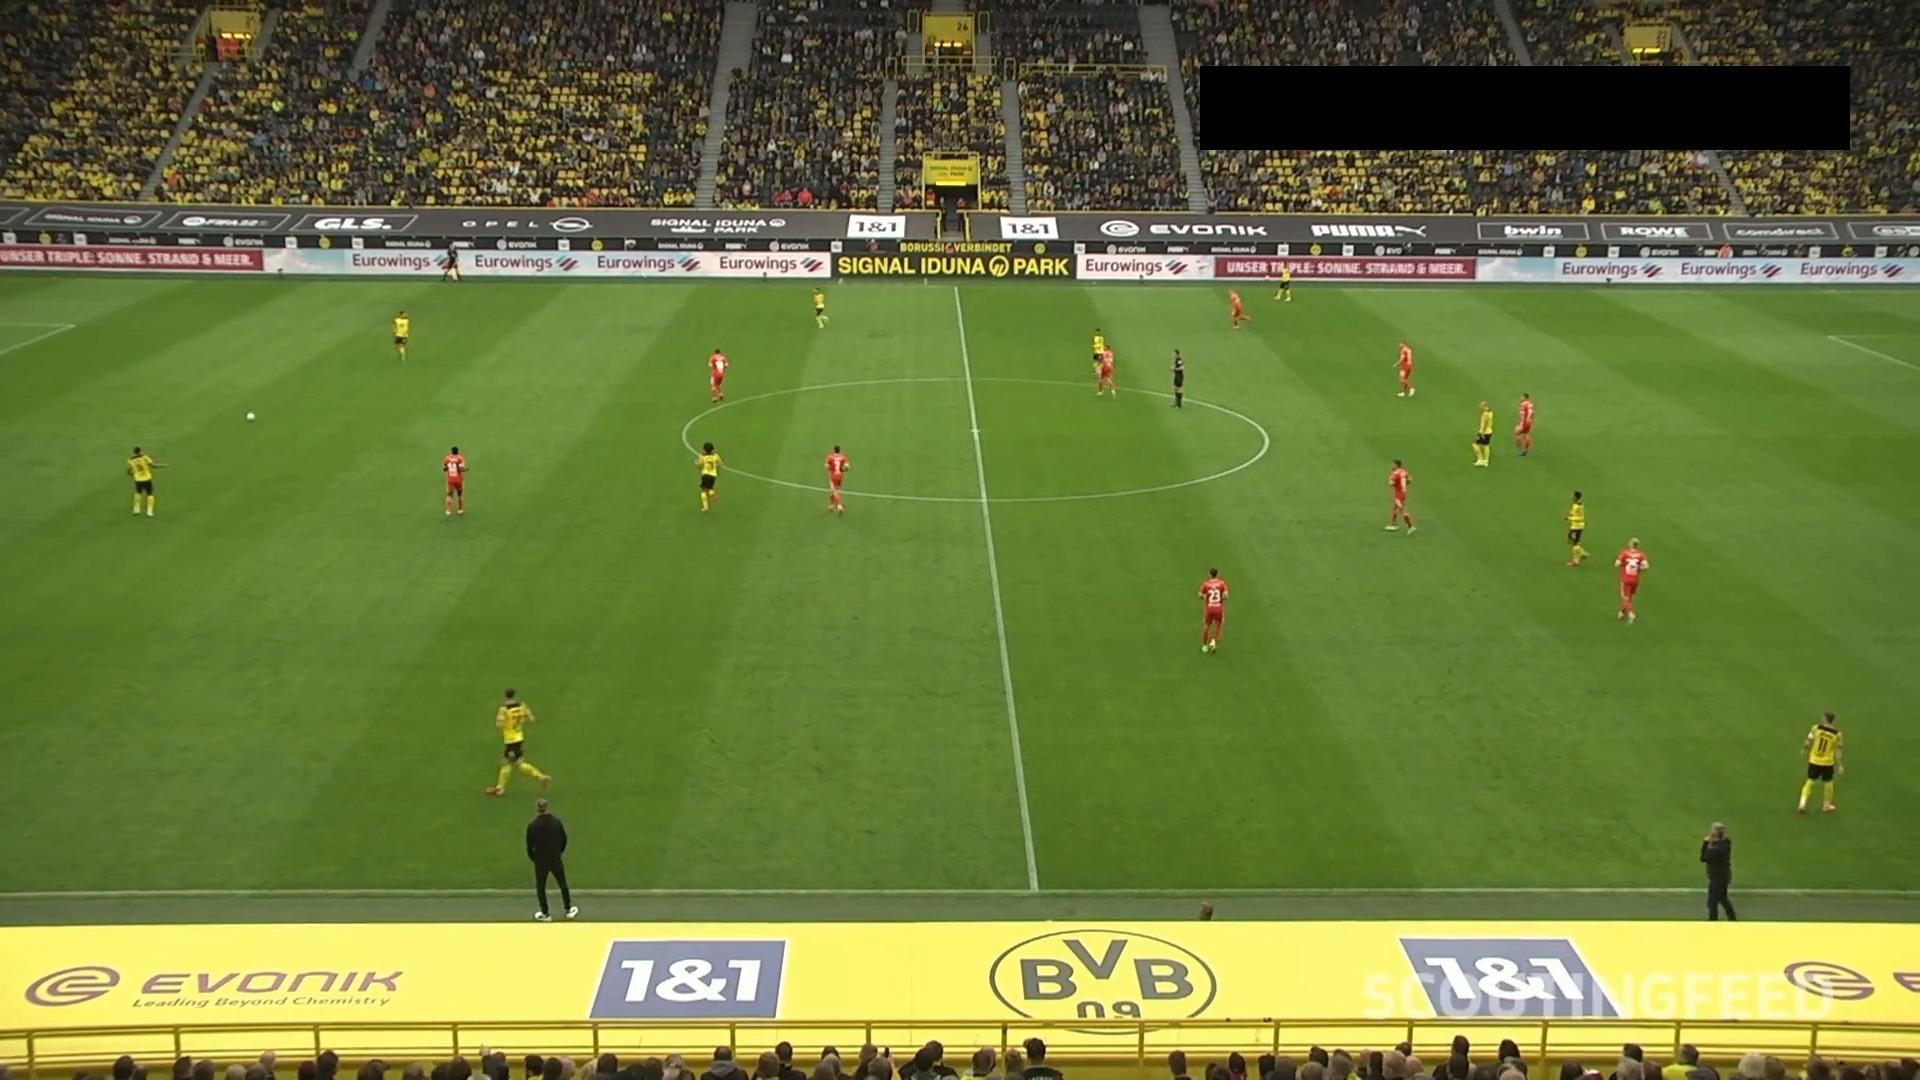ball: (243, 409, 257, 423)
